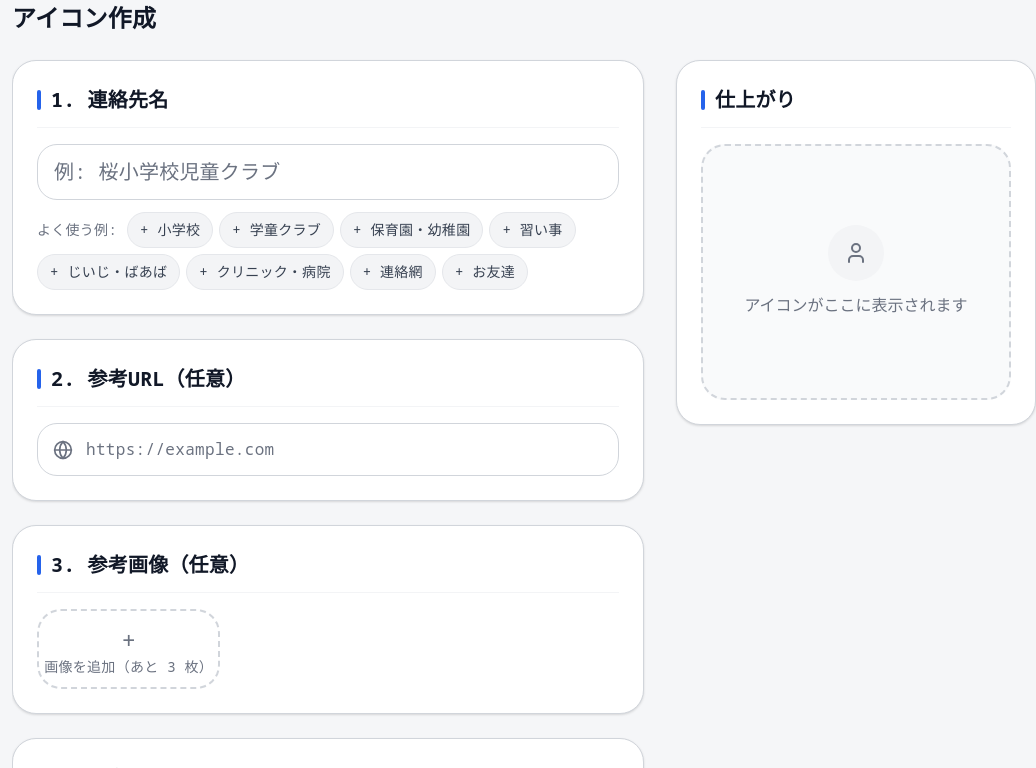
Scenario: IconCreator › disables submit until a contact name is provided
Type "テスト連絡先" into the field with placeholder "例: 桜小学校児童クラブ". click: x=328, y=172
box: 37,144 -> 619,200
(page scrolled)
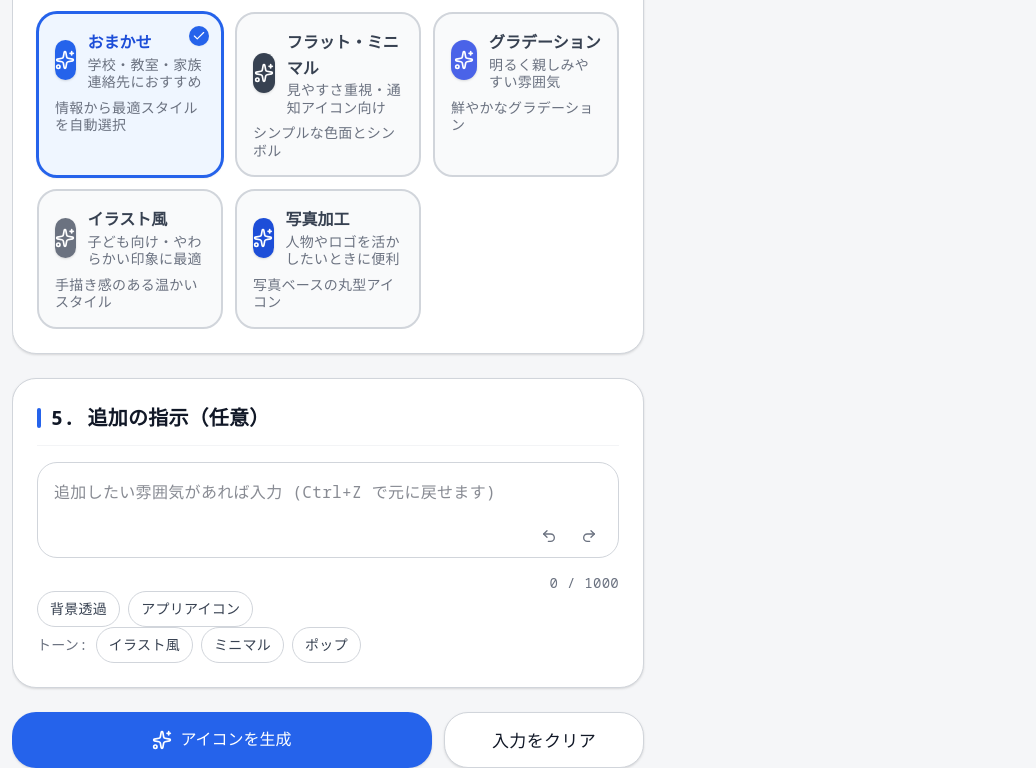
Expected: the button "アイコンを生成" is enabled, 12,712 -> 432,767
